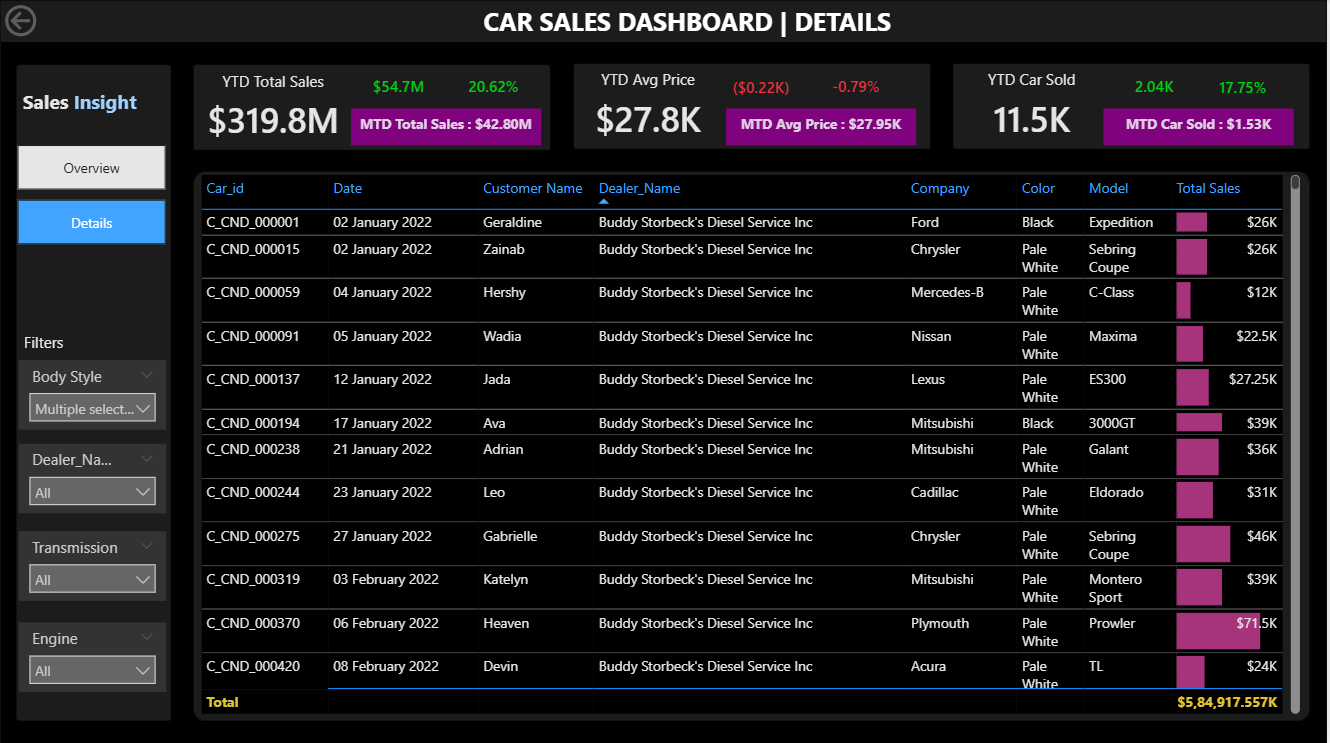

The dashboard page shown, as its layout file describes it:
{"tool":"powerbi","page":{"name":"Details ","canvas":[1280,720],"ordinal":1},"visuals":[{"type":"card","title":"YTD Total Sales","fields":{"Values":["car_data.YTD Total Sales"]},"box":[188.2,67.6,150.8,77.2],"z":0},{"type":"card","fields":{"Values":["car_data.Sales Difference"]},"box":[339,66.4,91.7,38.6],"z":1000},{"type":"card","fields":{"Values":["car_data.YOY Sales Growth"]},"box":[430.7,66.4,91.7,38.6],"z":2000},{"type":"card","fields":{"Values":["car_data.MTD KPI"]},"box":[339,105,183.4,35],"z":3000},{"type":"card","title":"YTD Avg Price ","fields":{"Values":["car_data.YTD Avg Price"]},"box":[550.1,66.4,150.8,77.2],"z":4000},{"type":"card","fields":{"Values":["car_data.Avg Price Diff"]},"box":[688.9,67.6,91.7,38.6],"z":5000},{"type":"card","fields":{"Values":["car_data.YOY Avg Price Growth"]},"box":[780.6,66.4,91.7,38.6],"z":6000},{"type":"card","fields":{"Values":["car_data.MTD Avg Price KPI"]},"box":[700.9,105,183.4,35],"z":7000},{"type":"card","title":"YTD Car Sold","fields":{"Values":["car_data.YTD Car Sold"]},"box":[920.5,66.4,150.8,77.2],"z":8000},{"type":"card","fields":{"Values":["car_data.Car Sold Diff"]},"box":[1071.3,66.4,85.7,38.6],"z":9000},{"type":"actionButton","box":[0,0,100,40],"z":10000},{"type":"card","fields":{"Values":["car_data.YOY Car Sold Growth"]},"box":[1157,67.6,85.7,38.6],"z":11000},{"type":"card","fields":{"Values":["car_data.MTD Car Sold KPI"]},"box":[1065.3,105,183.4,35],"z":12000},{"type":"textbox","box":[430.9,0,465.2,64.5],"z":13000},{"type":"slicer","fields":{"Values":["car_data.Body Style"]},"box":[18.1,347.5,142.4,67.6],"z":14000},{"type":"slicer","fields":{"Values":["car_data.Dealer_Name","car_data.Dealer_Region"]},"box":[18.1,428.3,142.4,67.6],"z":15000},{"type":"slicer","fields":{"Values":["car_data.Transmission"]},"box":[18.1,512.7,142.4,67.6],"z":16000},{"type":"slicer","fields":{"Values":["car_data.Engine"]},"box":[18.1,600.8,142.4,67.6],"z":17000},{"type":"textbox","box":[18.1,314.9,59.1,32.6],"z":18000},{"type":"tableEx","fields":{"Values":["car_data.Car_id","car_data.Date","car_data.Customer Name","car_data.Dealer_Name","car_data.Company","car_data.Color","car_data.Model","Sum(car_data.Price ($))"]},"box":[188.6,164.3,1071.4,530],"z":19000},{"type":"textbox","box":[17.1,81.4,164.3,48.6],"z":20000}]}

Visuals, with their boxes in screenshot pixels (x1, y1, x2, y2), scaled from the page's 1280x720 canvas onto the 1330x743 screenshot:
"YTD Total Sales" card: <region>196, 70, 352, 149</region>
card - car_data.Sales Difference: <region>352, 69, 448, 108</region>
card - car_data.YOY Sales Growth: <region>448, 69, 543, 108</region>
card - car_data.MTD KPI: <region>352, 108, 543, 144</region>
"YTD Avg Price " card: <region>572, 69, 728, 148</region>
card - car_data.Avg Price Diff: <region>716, 70, 811, 110</region>
card - car_data.YOY Avg Price Growth: <region>811, 69, 906, 108</region>
card - car_data.MTD Avg Price KPI: <region>728, 108, 919, 144</region>
"YTD Car Sold" card: <region>956, 69, 1113, 148</region>
card - car_data.Car Sold Diff: <region>1113, 69, 1202, 108</region>
actionButton: <region>0, 0, 104, 41</region>
card - car_data.YOY Car Sold Growth: <region>1202, 70, 1291, 110</region>
card - car_data.MTD Car Sold KPI: <region>1107, 108, 1297, 144</region>
textbox: <region>448, 0, 931, 67</region>
slicer - car_data.Body Style: <region>19, 359, 167, 428</region>
slicer - car_data.Dealer_Name x car_data.Dealer_Region: <region>19, 442, 167, 512</region>
slicer - car_data.Transmission: <region>19, 529, 167, 599</region>
slicer - car_data.Engine: <region>19, 620, 167, 690</region>
textbox: <region>19, 325, 80, 359</region>
tableEx - car_data.Car_id x car_data.Date: <region>196, 170, 1309, 716</region>
textbox: <region>18, 84, 188, 134</region>
